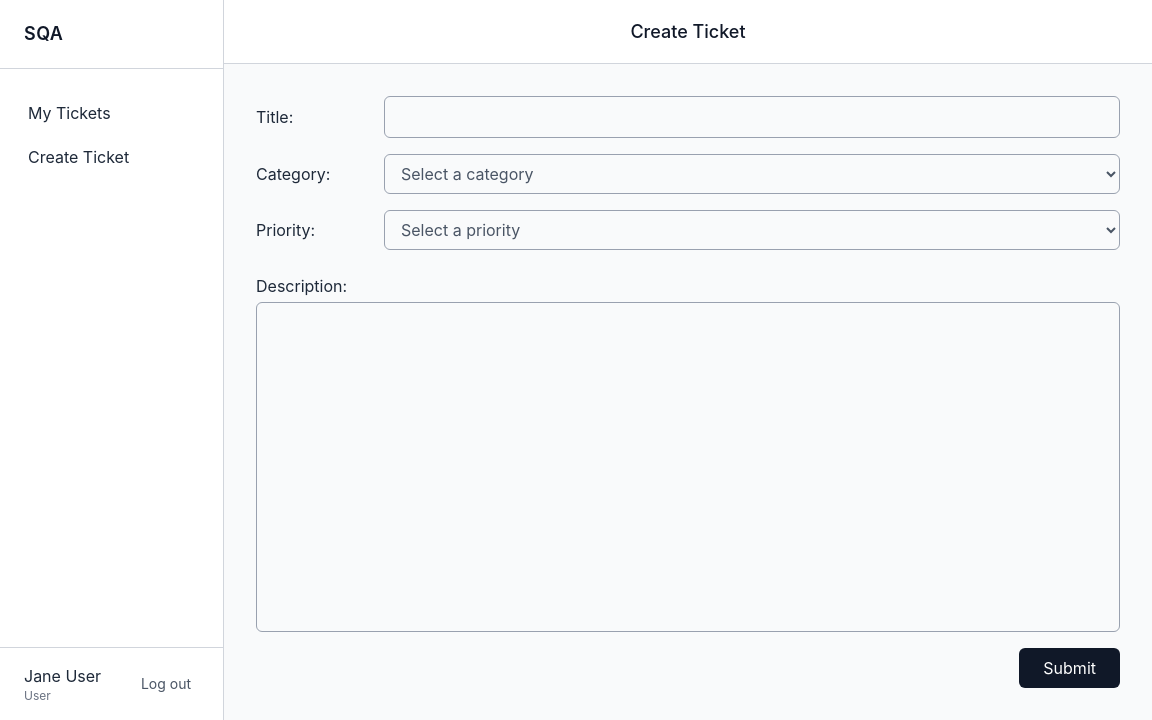
Test: CreateTicket page › TC-FR13-12: submitting an empty form shows an error for every required field
The image size is (1152, 720).
Step 1. Click the button "Submit" → (1070, 668), box [1019,648,1120,688]
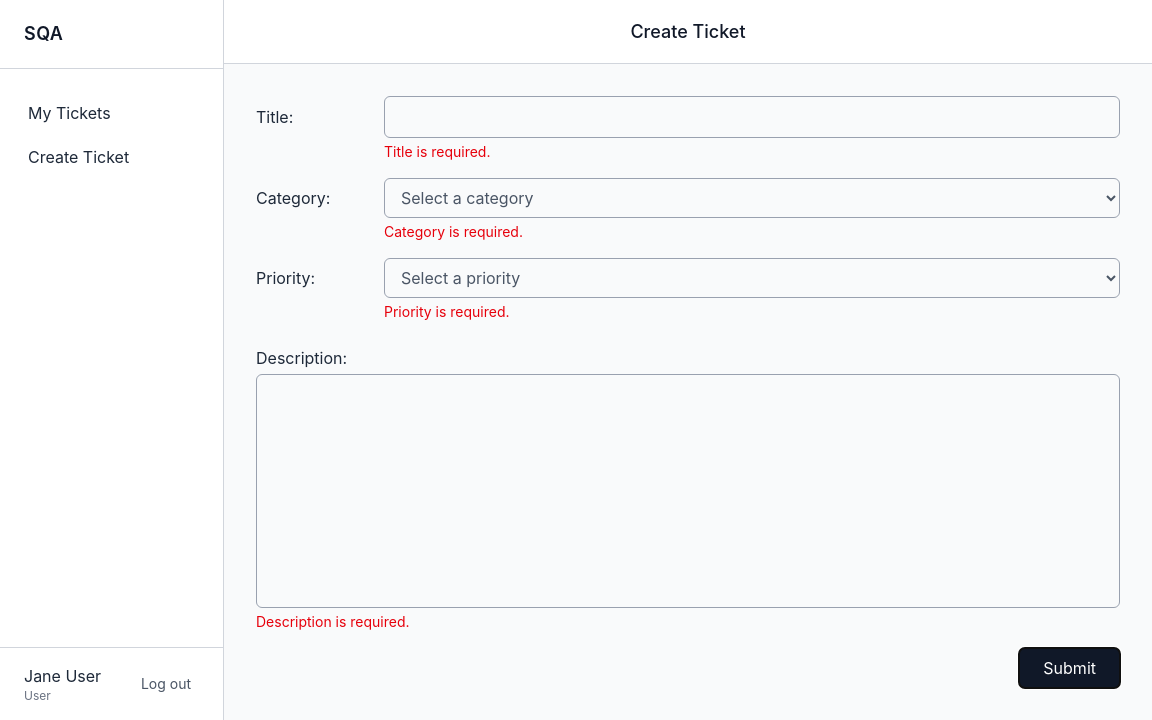
Check: the text "Title is required." is shown, box [384,143,490,160]
Check: the text "Category is required." is shown, box [384,223,523,240]
Check: the text "Priority is required." is shown, box [384,303,510,320]
